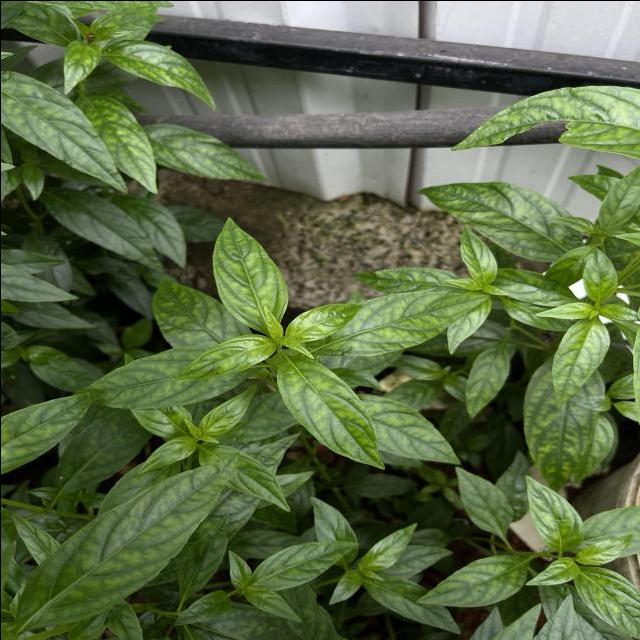Andrographis paniculata: (14, 448, 241, 633), (0, 67, 130, 194), (414, 179, 579, 260), (274, 351, 387, 468), (37, 185, 165, 274), (210, 214, 290, 338), (134, 120, 272, 184), (105, 37, 217, 112), (365, 290, 490, 356), (0, 387, 92, 476), (84, 90, 160, 195), (414, 553, 528, 608), (250, 538, 360, 590), (550, 316, 612, 408), (170, 332, 278, 383), (520, 472, 586, 552), (451, 463, 514, 536), (463, 340, 512, 418), (198, 382, 259, 438), (284, 302, 363, 342), (597, 163, 640, 229), (364, 518, 418, 570), (457, 223, 498, 286), (580, 245, 618, 302)
